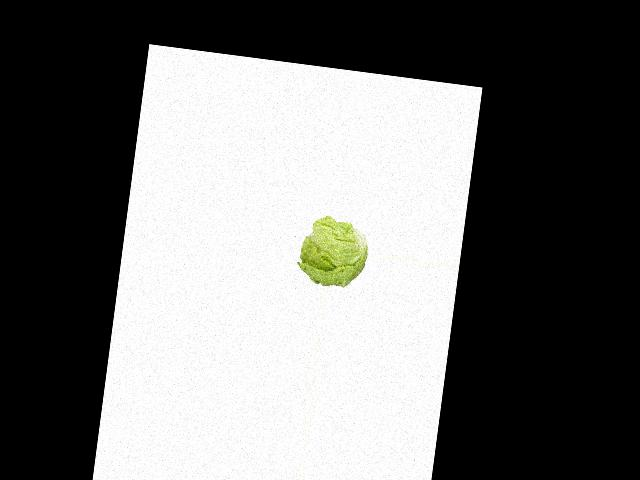lettuce: (296, 215, 373, 290)
